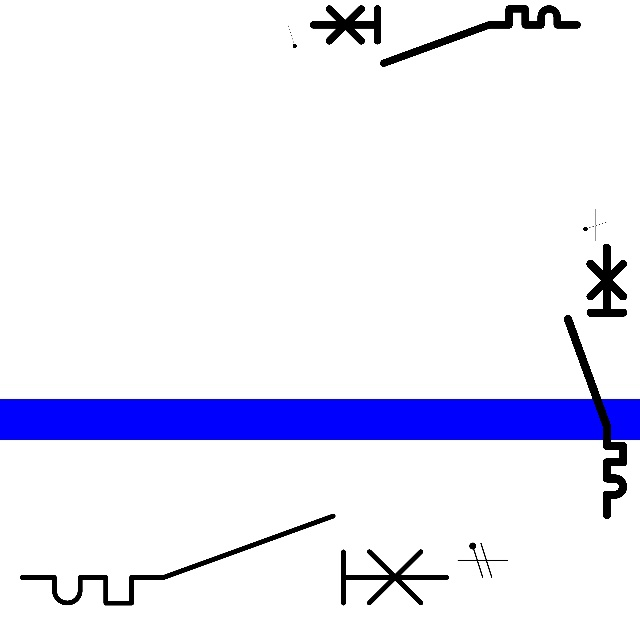interruptor_termomagnetico: (11, 505, 458, 614), (561, 240, 630, 521), (306, 2, 583, 70)
